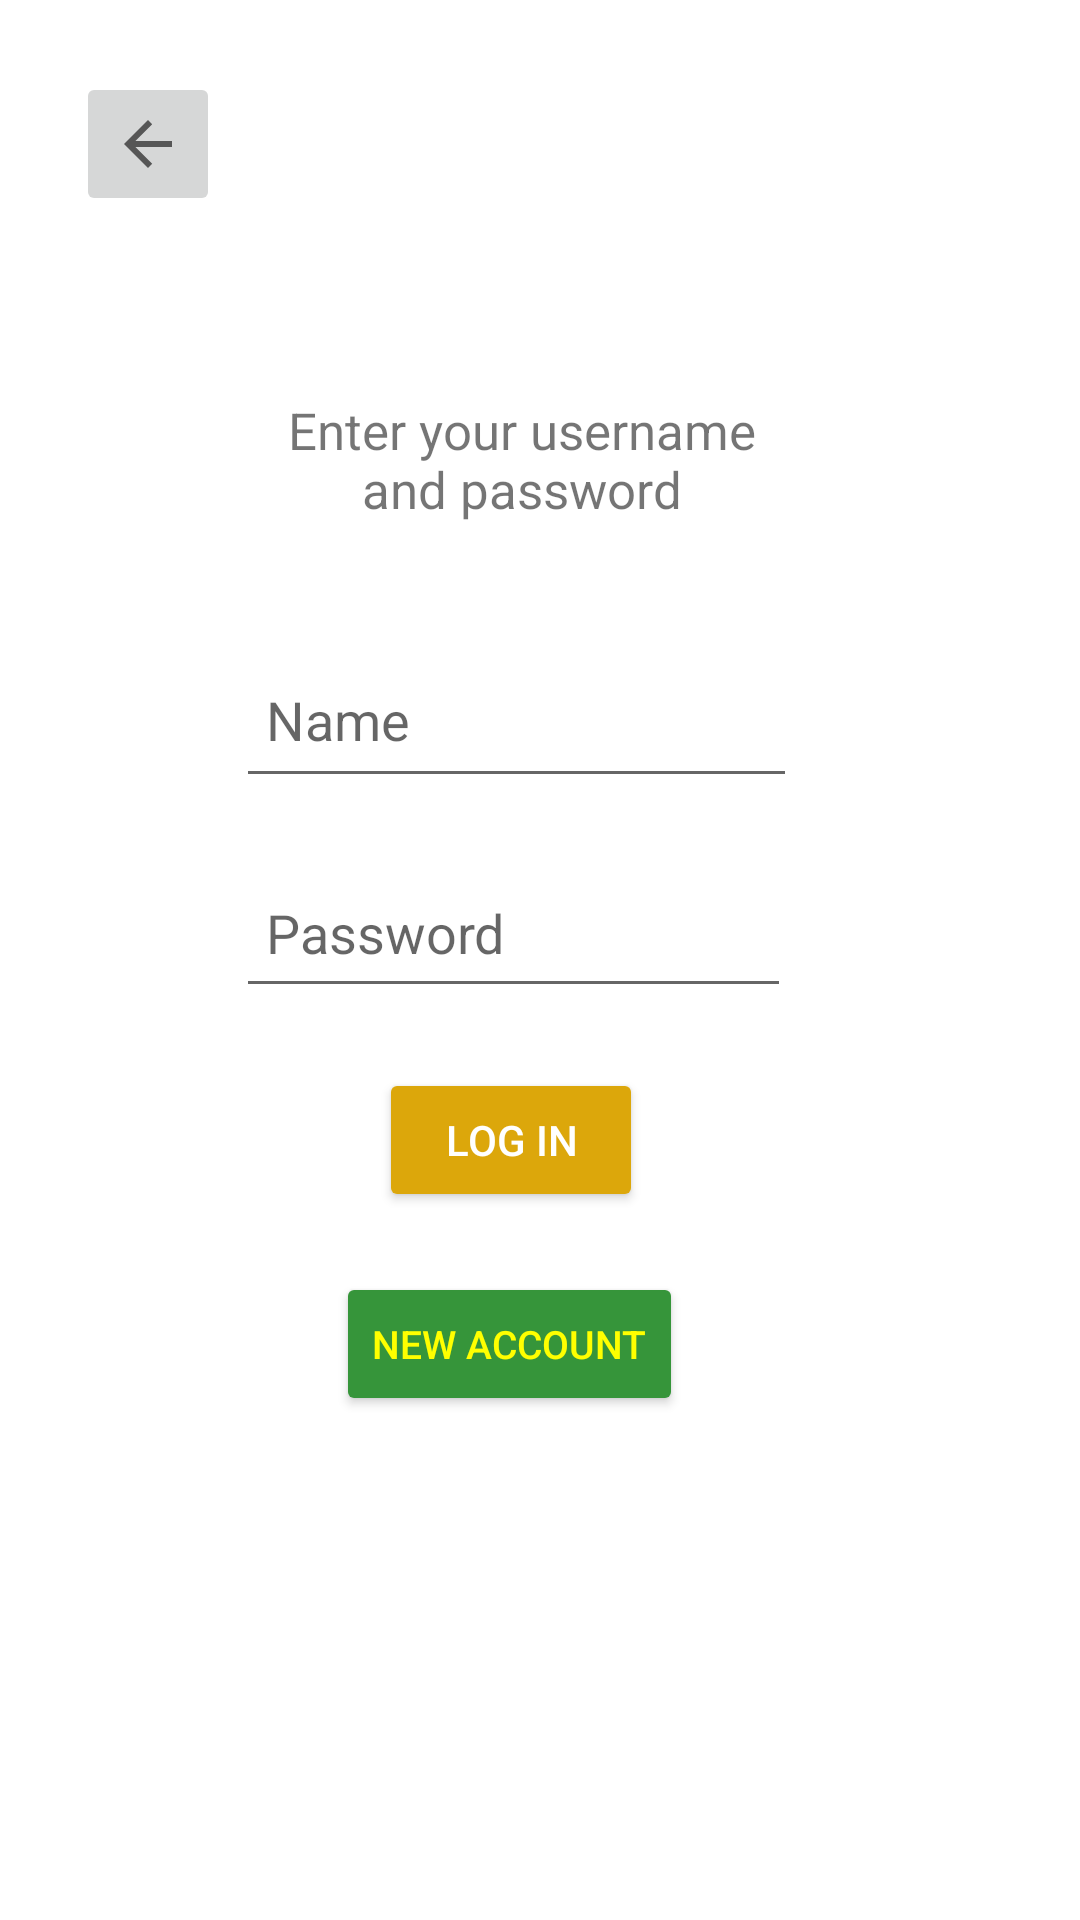

Where icons sit on this 1080px×1920px app screen, as (x1, y1, x2, y2):
An image with back arraow function: (88, 90, 208, 198)
